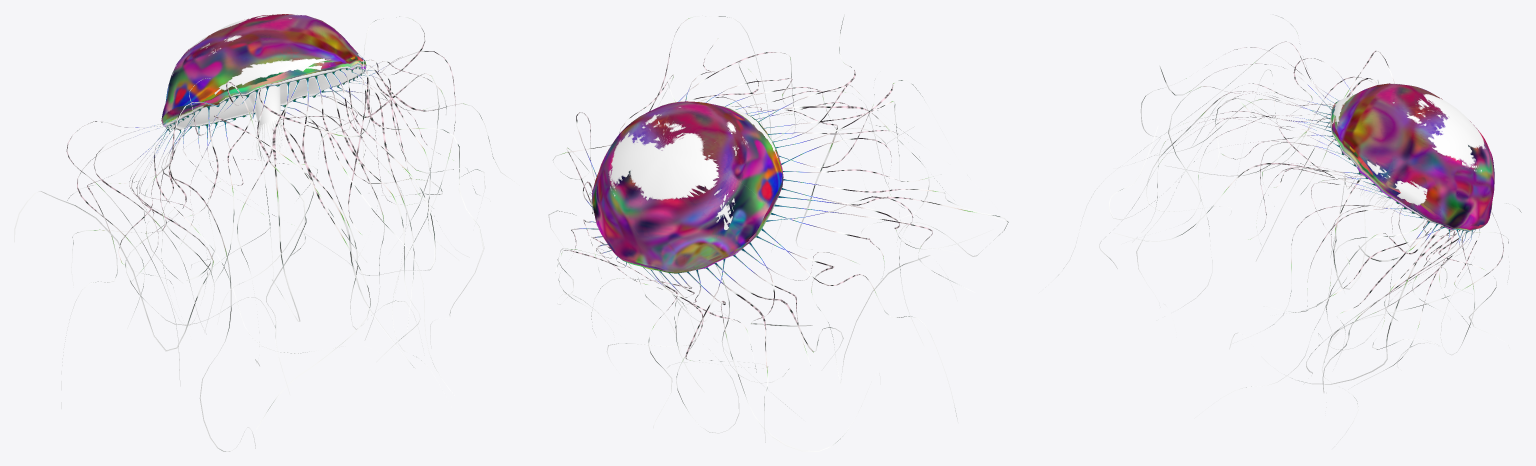
Rendered from jellyfish3.glb.
The picture shows the model from 3 angles, left to right: view 1: azimuth 30°, elevation 25°; view 2: azimuth 150°, elevation 25°; view 3: azimuth 270°, elevation 25°; orthographic projection. The views are drawn at different scales.
Visible parts, largest first — view 1: Object_2; view 2: Object_2; view 3: Object_2.
Boxes of the visible parts, x1=… form: Object_2: x1=14, y1=14, x2=519, y2=451; Object_2: x1=548, y1=14, x2=1008, y2=451; Object_2: x1=1039, y1=14, x2=1521, y2=448.
Bounding box in the file's own units: 12.13 × 10.5 × 12.34.
Materials: 1 (1 with a texture image).
